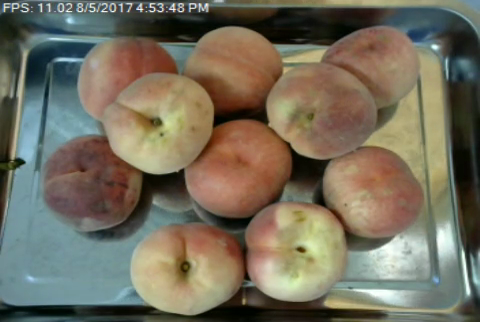Peach: (103, 74, 216, 175), (264, 63, 379, 161), (243, 199, 349, 304), (183, 118, 292, 218), (129, 222, 245, 315), (321, 145, 425, 240), (41, 134, 141, 229), (318, 26, 428, 112), (183, 26, 285, 112), (81, 36, 173, 123)
